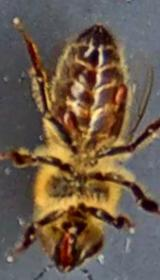varroa_mite: (59, 100, 86, 142), (109, 76, 128, 113)
